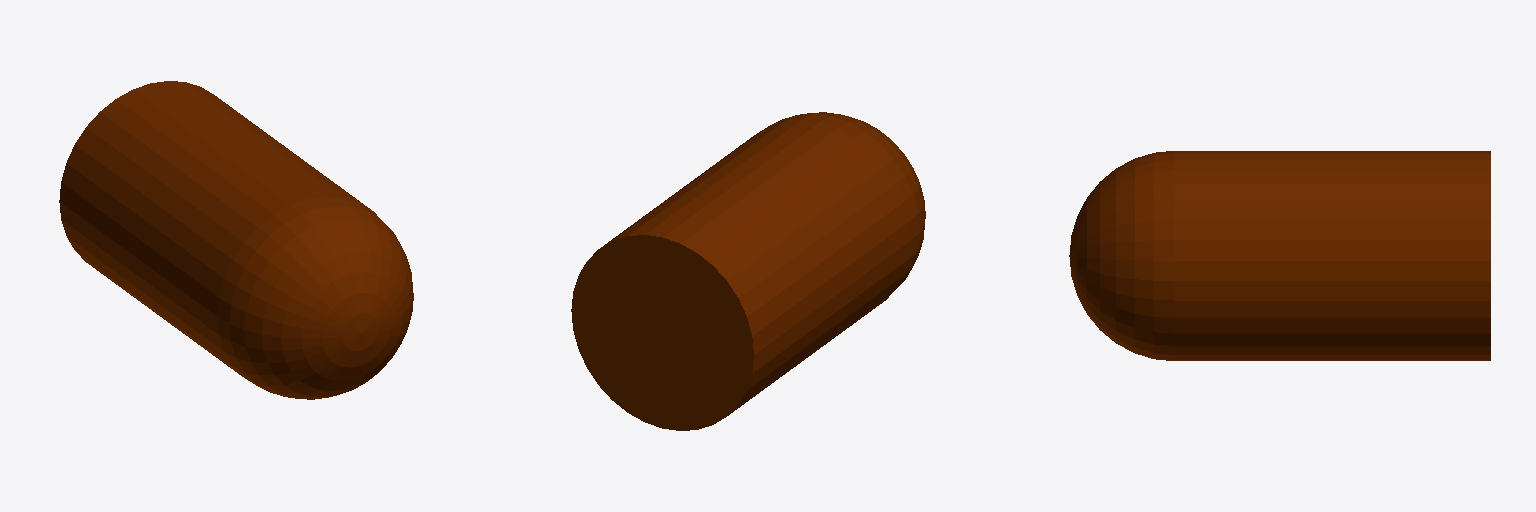
The model's file is Bullet.obj.
3 views of the same model, side by side, from view 1: azimuth 30°, elevation 25°; view 2: azimuth 150°, elevation 25°; view 3: azimuth 270°, elevation 25° (orthographic).
Parts seen in each view (by area): view 1: Сфера; view 2: Сфера; view 3: Сфера.
Boxes of the visible parts, x1,y1,x2,y2 form: Сфера: [59, 81, 413, 399]; Сфера: [571, 112, 925, 430]; Сфера: [1069, 151, 1490, 360].
Bounding box in the file's own units: 0.3 × 0.3 × 0.5989.